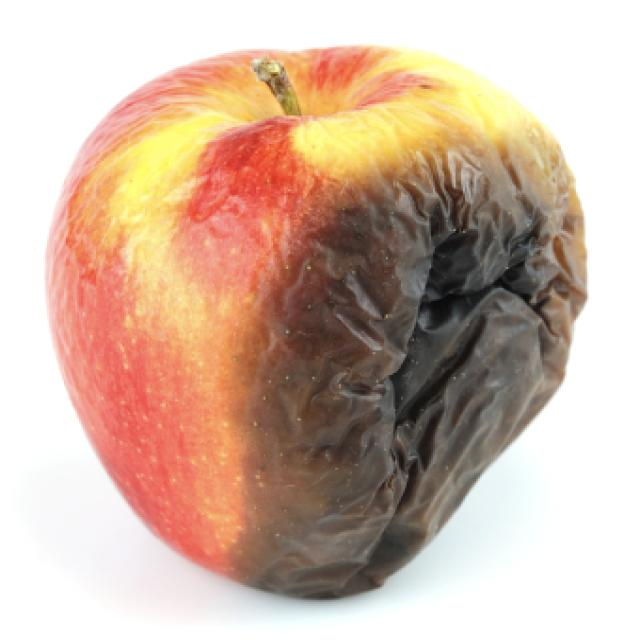apple: (48, 48, 585, 596)
